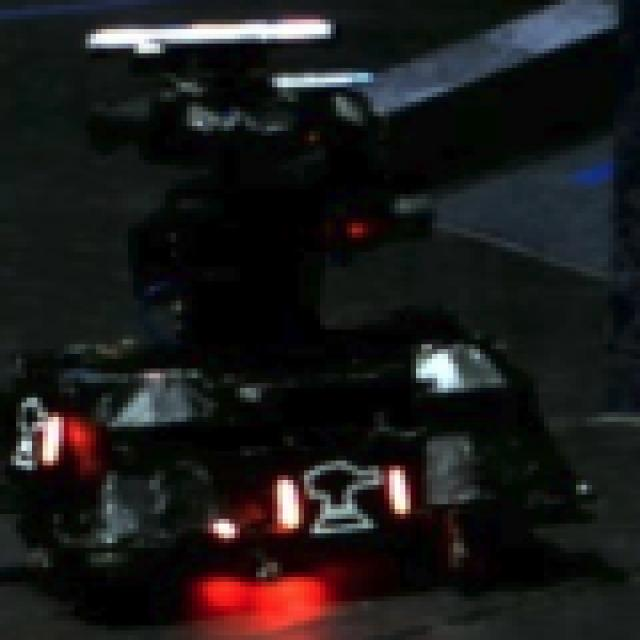Rs: (278, 451, 406, 538)
